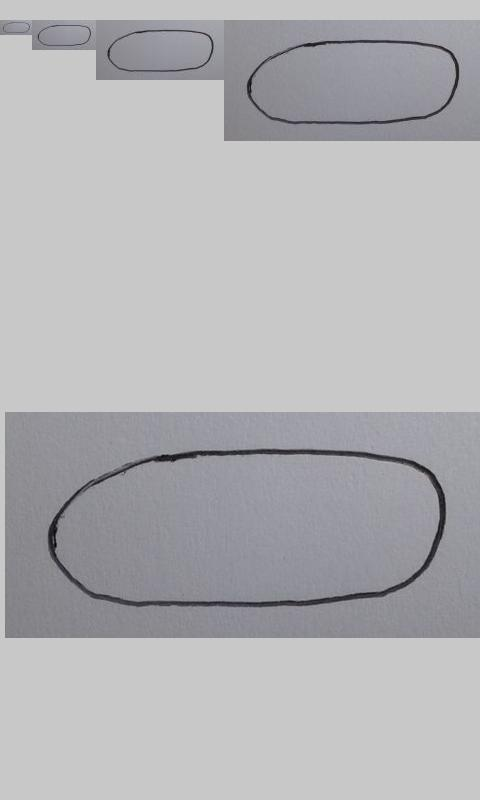chip: (50, 448, 448, 608), (246, 40, 460, 125), (107, 29, 215, 73), (37, 24, 92, 47), (2, 22, 31, 34)
